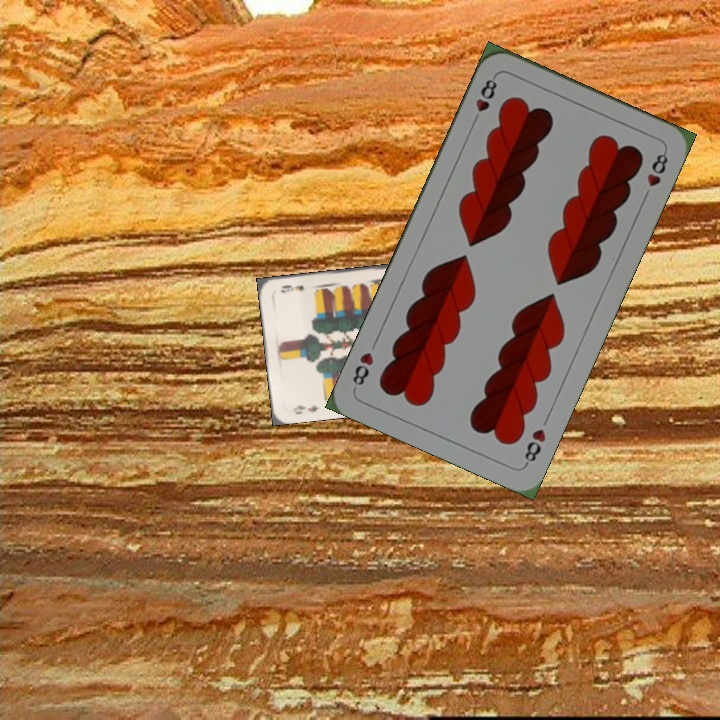E9: (289, 401, 321, 417)
H8: (468, 71, 500, 128), (520, 424, 549, 469)
